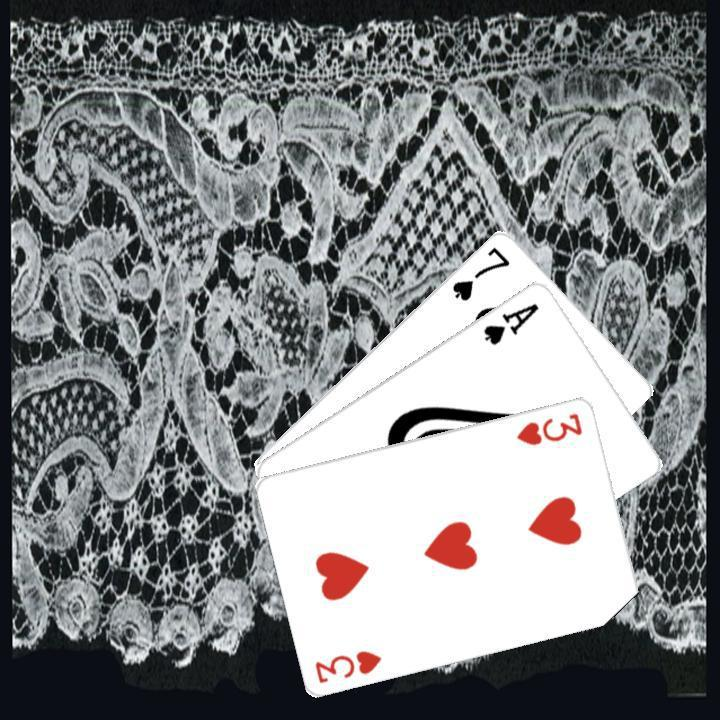3: (311, 645, 384, 685), (512, 408, 585, 447)
7: (447, 241, 512, 303)
A: (479, 298, 541, 347)
